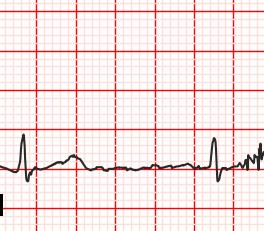Poor R Progression: (207, 133, 224, 172)
